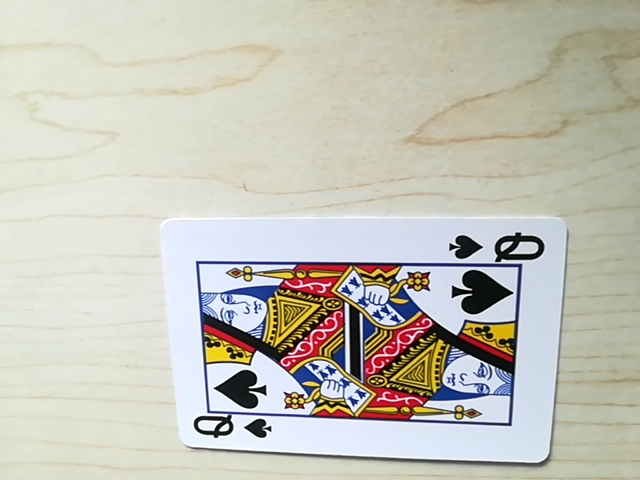ht q: (447, 227, 547, 265), (189, 410, 273, 447)
